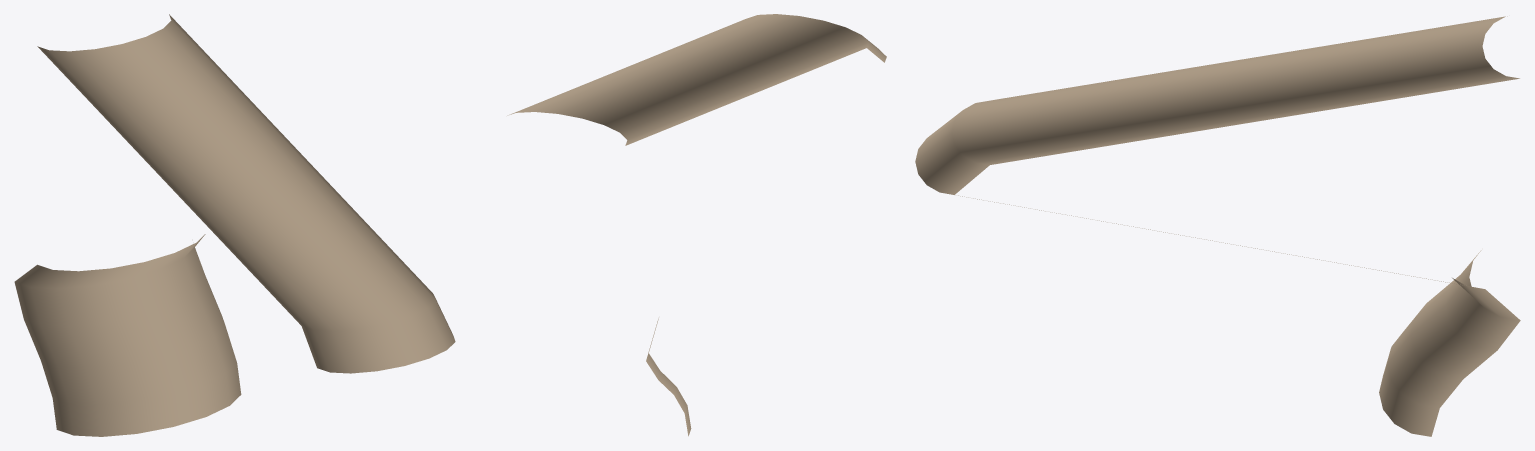
File: wide.glb
3 views of the same model, side by side, from view 1: azimuth 30°, elevation 25°; view 2: azimuth 150°, elevation 25°; view 3: azimuth 270°, elevation 25° (orthographic). The views are drawn at different scales.
Parts seen in each view (by area): view 1: noses_wide; view 2: noses_wide; view 3: noses_wide.
Part boxes in pixels (x1,y1,x2,y2): noses_wide: (14, 14, 455, 436); noses_wide: (507, 14, 886, 436); noses_wide: (915, 16, 1520, 436).
Size of the model in its own units: 0.165 by 0.3 by 0.4754.
